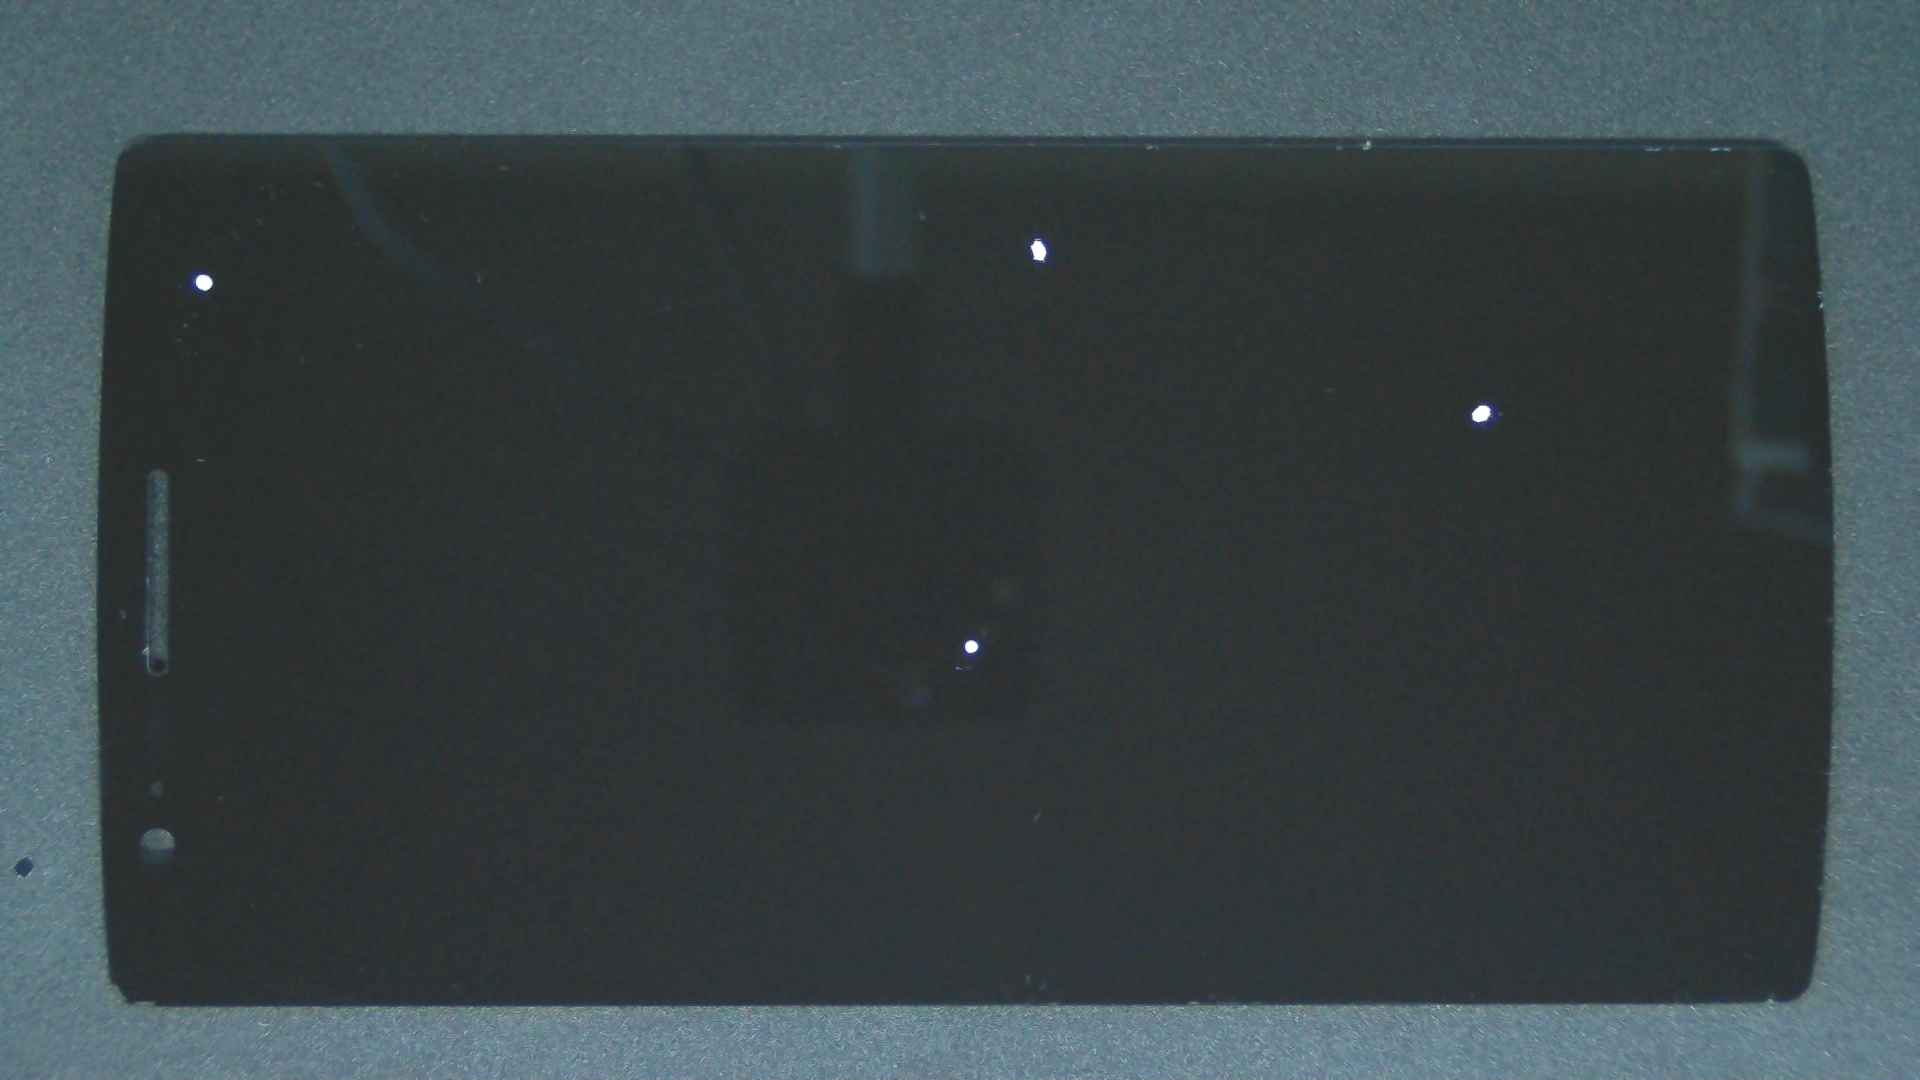oil: (484, 319, 1452, 959), (744, 200, 1920, 605), (517, 117, 1549, 356), (104, 136, 311, 409)
